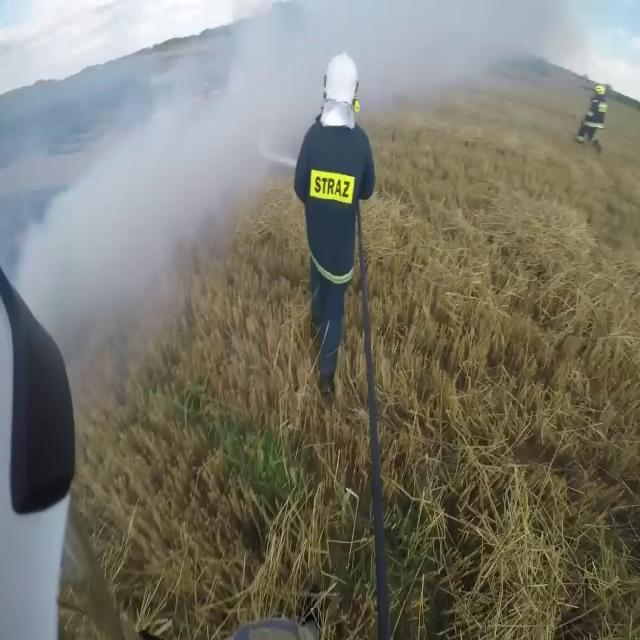Smoke: (25, 26, 277, 384)
